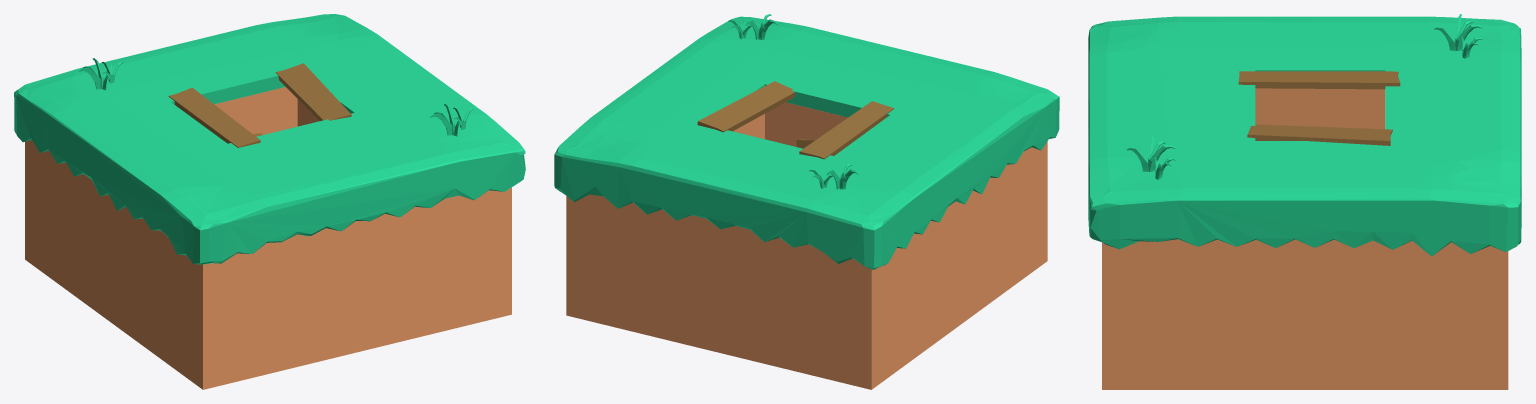
File: trapdoor_animation.fbx
The picture shows the model from 3 angles, left to right: view 1: azimuth 30°, elevation 25°; view 2: azimuth 150°, elevation 25°; view 3: azimuth 270°, elevation 25°; orthographic projection. The views are drawn at different scales.
Visible parts, largest first — view 1: Cube.004, Cube.003, Cube.006, Cube.010, Plane.001, Plane.004; view 2: Cube.004, Cube.003, Cube.010, Cube.006, Plane.004, Plane.001; view 3: Cube.004, Cube.003, Cube.006, Cube.010, Plane.004, Plane.001.
Boxes of the visible parts, x1,y1,x2,y2 form: Cube.004: (14,14,525,264); Cube.003: (25,87,511,389); Cube.006: (168,87,260,147); Cube.010: (275,63,351,120); Plane.001: (79,58,122,90); Plane.004: (430,104,474,136); Cube.004: (554,16,1059,269); Cube.003: (566,102,1047,389); Cube.010: (697,81,795,132); Cube.006: (799,101,893,159); Plane.004: (728,14,777,39); Plane.001: (809,164,858,189); Cube.004: (1088,16,1521,256); Cube.003: (1102,88,1508,389); Cube.006: (1238,71,1400,89); Cube.010: (1247,124,1392,145); Plane.004: (1127,134,1175,179); Plane.001: (1434,14,1482,58).
Bounding box in the file's own units: 426 × 244 × 426.
